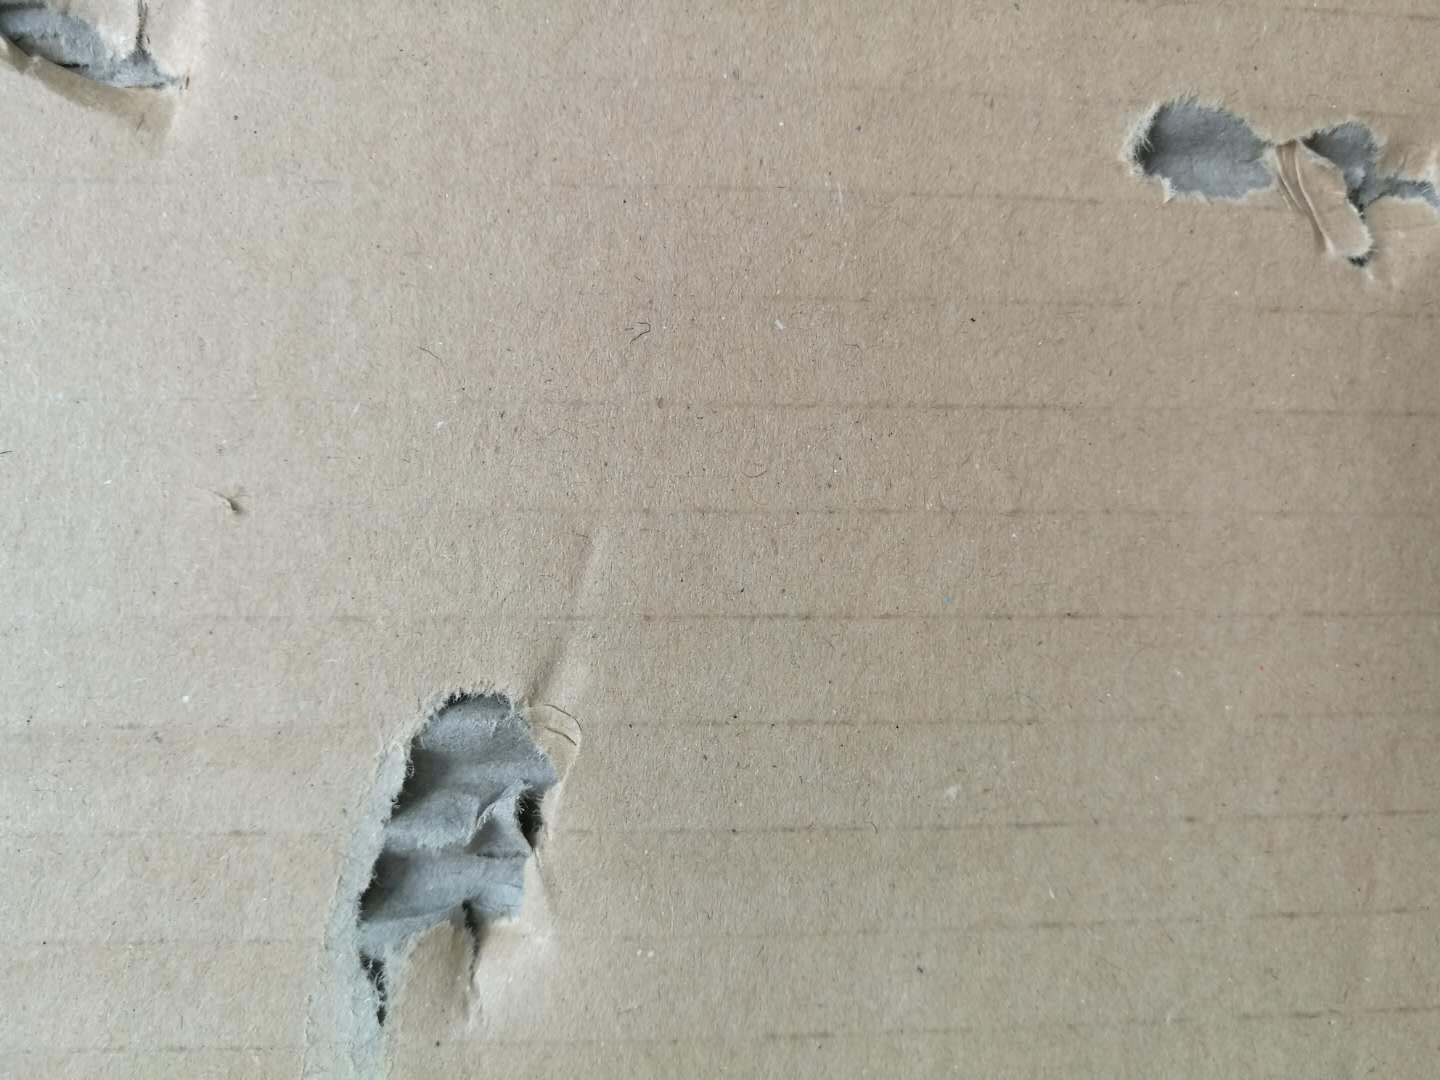defect: (283, 656, 638, 1080), (1101, 70, 1440, 315), (2, 1, 243, 170)
